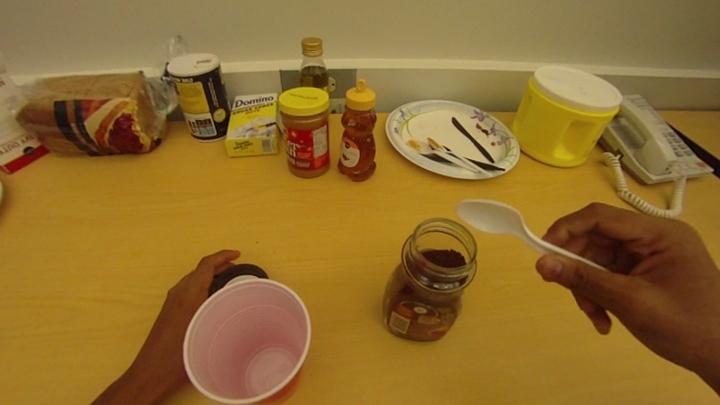hand: (532, 199, 715, 374), (156, 246, 244, 374)
